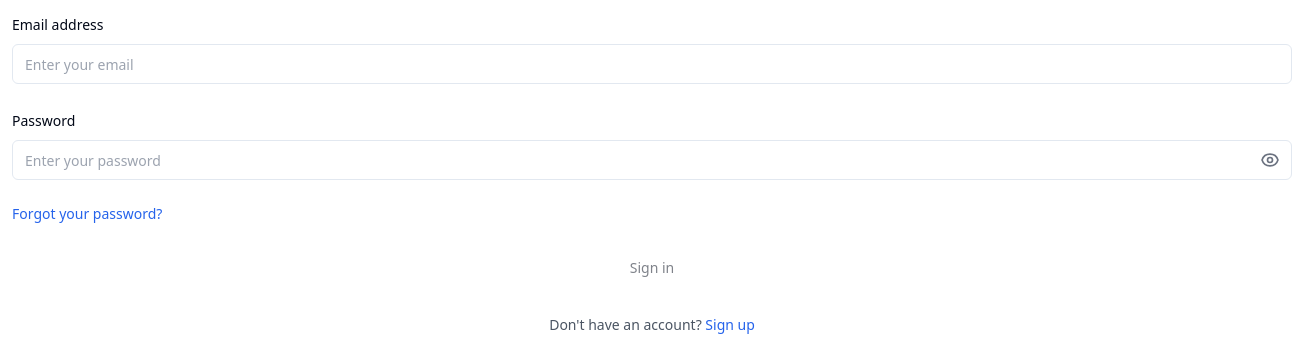
LoginForm › validates required fields
This screenshot has width=1304, height=351.
Expected: the button "Sign in" is disabled, [12,248,1292,288]
Note: Fill in email
Type "test@example.com" into the field labelled "Email address".
click(652, 64); type("test@example.com")  # box [12,44,1292,84]
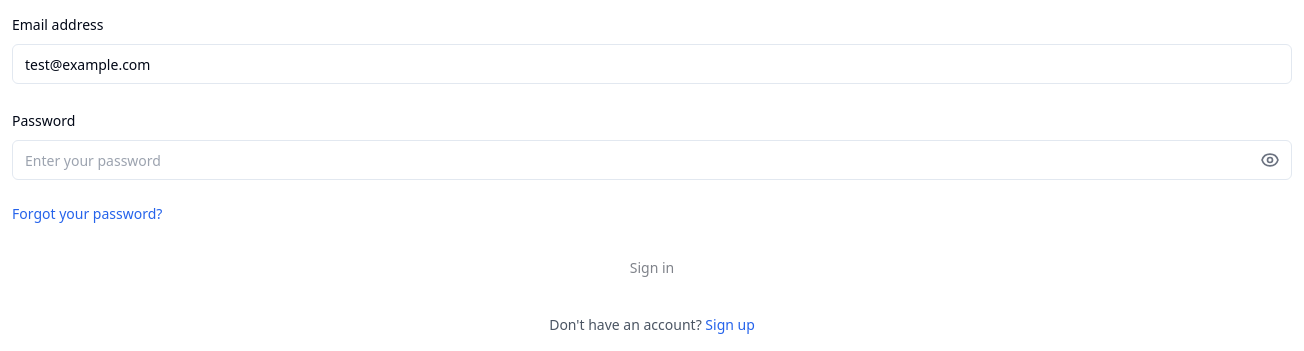
Expected: the button "Sign in" is disabled, [12,248,1292,288]
Note: Fill in password
Type "password123" into the password field labelled "Password".
click(652, 160); type("password123")  # box [12,140,1292,180]
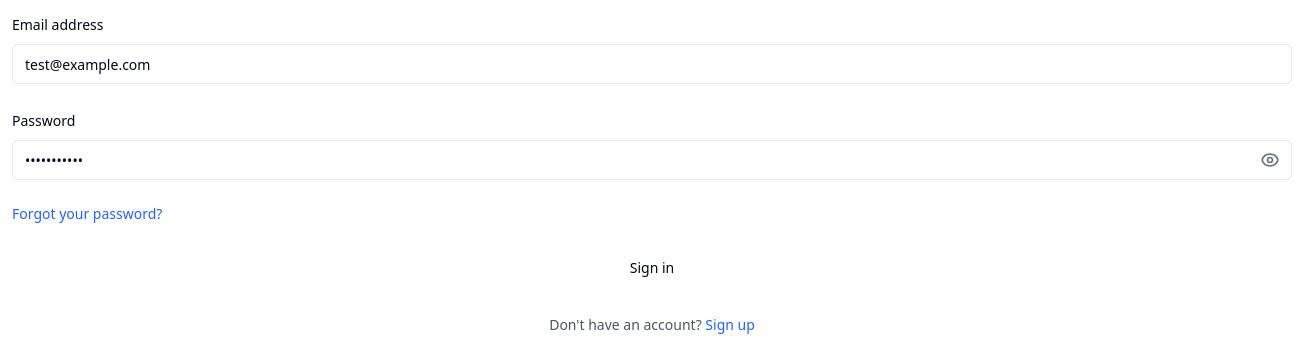
Expected: the button "Sign in" is enabled, [12,248,1292,288]
